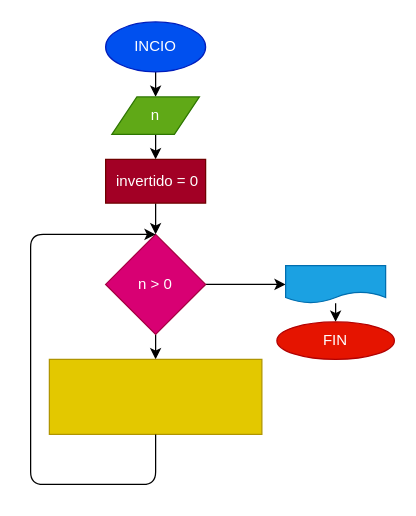
Image size: 416x516. Some labels were removed from this diagram. The shapes that lost their labels are listed below. From the top down, each one's centre as x and y in pixels, then its label:
point 335,283: invertido
point 155,396: invertido = invertido * 10 + r r = n%10 n = n//10
